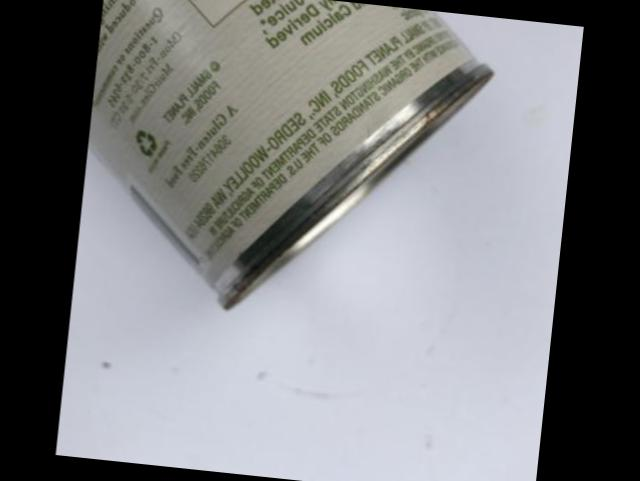metal: (89, 0, 493, 310)
